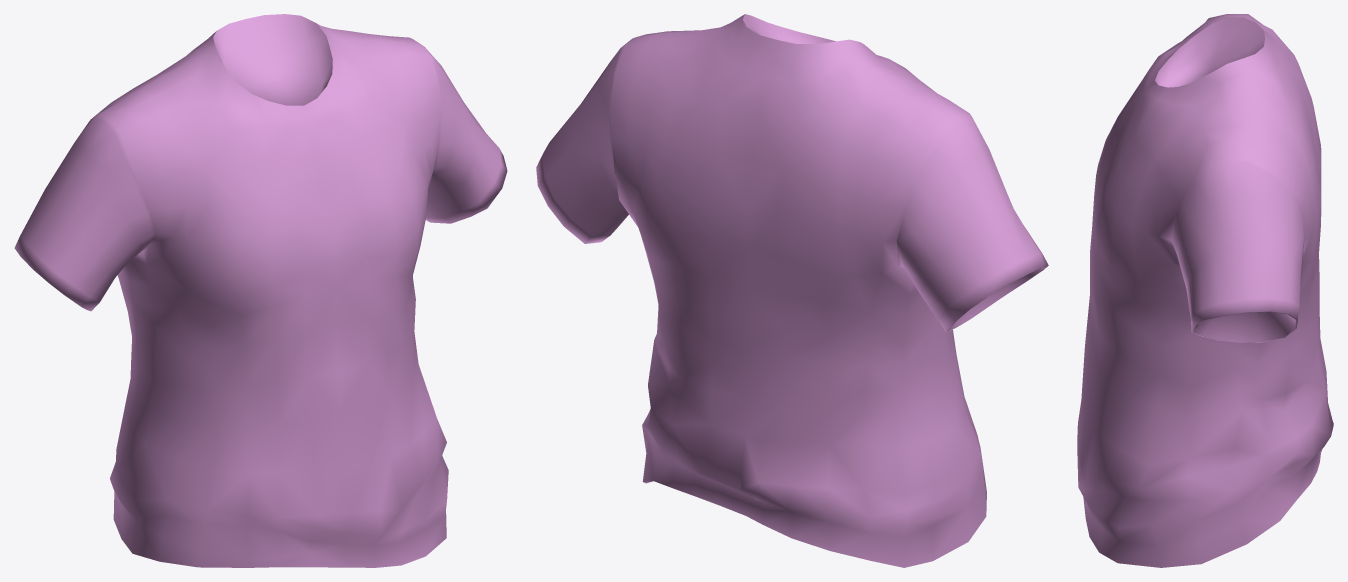
3 views of the same model, side by side, from view 1: azimuth 30°, elevation 25°; view 2: azimuth 150°, elevation 25°; view 3: azimuth 270°, elevation 25° (orthographic). The views are drawn at different scales.
Parts seen in each view (by area): view 1: hash_439FD9BF.model; view 2: hash_439FD9BF.model; view 3: hash_439FD9BF.model.
Part boxes in pixels (left/top/right/bottom): hash_439FD9BF.model: left=14, top=14, right=507, bottom=567; hash_439FD9BF.model: left=536, top=14, right=1048, bottom=567; hash_439FD9BF.model: left=1077, top=14, right=1333, bottom=567.
Size of the model in its own units: 0.6514 by 0.6587 by 0.3247.
